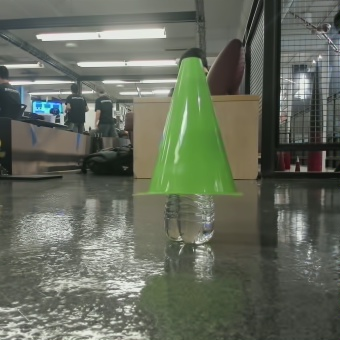Cone: (150, 56, 236, 190)
